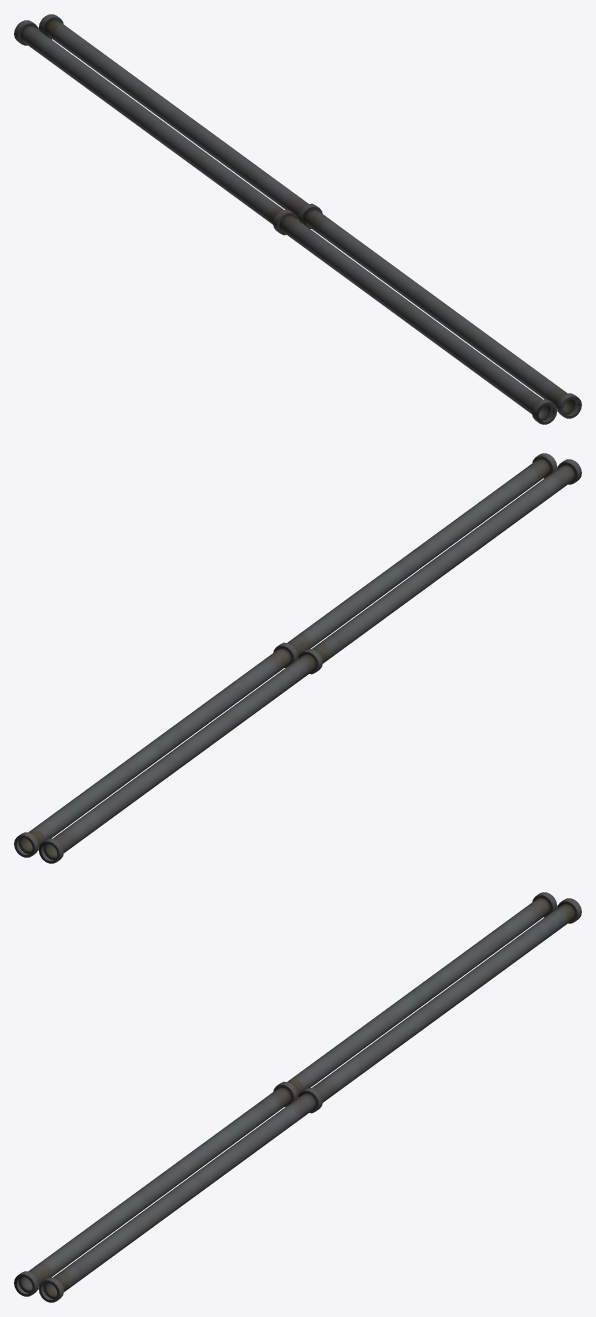
Rendered from props_hydro_2pipe_straight_256.glb.
3 renders of one model, top to bottom at view 1: azimuth 30°, elevation 25°; view 2: azimuth 150°, elevation 25°; view 3: azimuth 330°, elevation 25°, orthographic.
Visible parts, largest first — view 1: models/props_hydro/2pipe_straight_256; view 2: models/props_hydro/2pipe_straight_256; view 3: models/props_hydro/2pipe_straight_256.
Boxes of the visible parts, box(x1,y1,x2,y2) form: models/props_hydro/2pipe_straight_256: box(14, 14, 581, 424); models/props_hydro/2pipe_straight_256: box(14, 453, 581, 863); models/props_hydro/2pipe_straight_256: box(14, 892, 581, 1302).
Bounding box in the file's own units: 12.99 × 5.99 × 256.
1 material, 1 textured.
